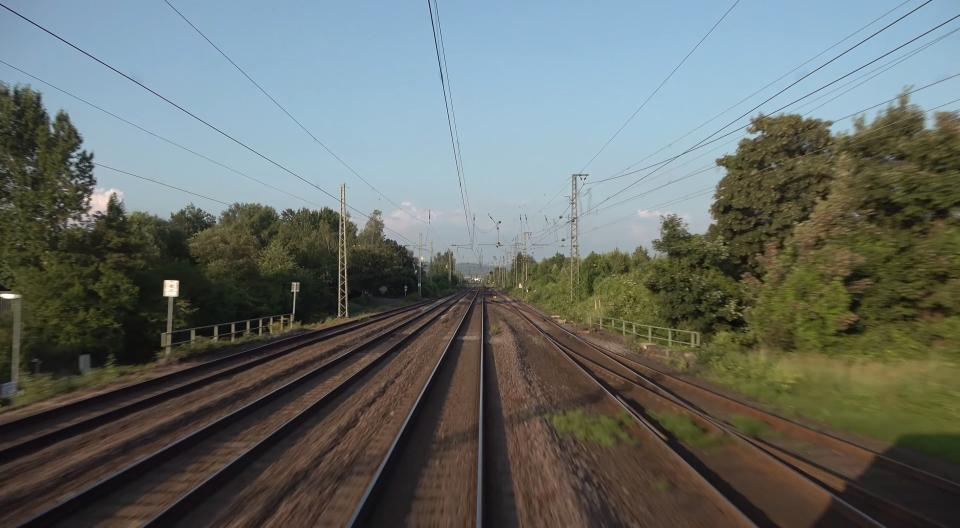Plant: (544, 408, 634, 447), (646, 411, 732, 449), (726, 415, 778, 438), (490, 322, 501, 336)
